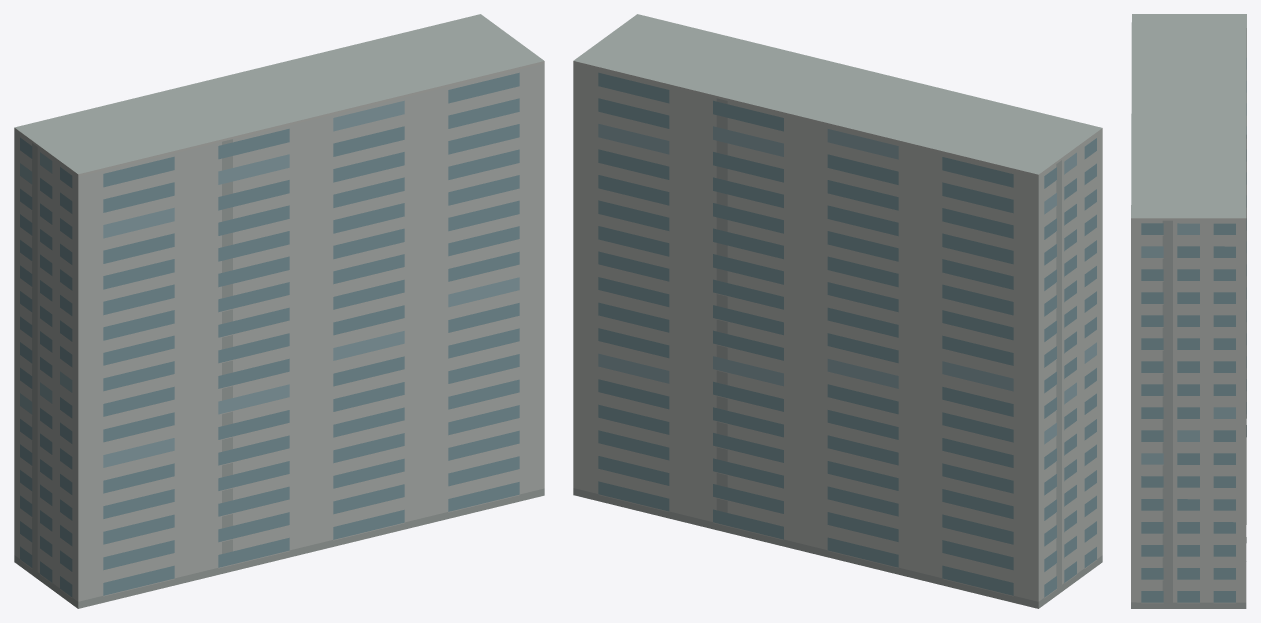
The model's file is residential-cc81bae6-917d-423c-af05-fee2603da18e.glb.
3 renders of one model, left to right at view 1: azimuth 30°, elevation 25°; view 2: azimuth 150°, elevation 25°; view 3: azimuth 270°, elevation 25°, orthographic. The views are drawn at different scales.
Parts seen in each view (by area): view 1: residential-cc81bae6-917d-423c-af05-fee2603da18e.tmp; view 2: residential-cc81bae6-917d-423c-af05-fee2603da18e.tmp; view 3: residential-cc81bae6-917d-423c-af05-fee2603da18e.tmp.
Boxes of the visible parts, left/top/right/bottom form: residential-cc81bae6-917d-423c-af05-fee2603da18e.tmp: left=14, top=14, right=544, bottom=608; residential-cc81bae6-917d-423c-af05-fee2603da18e.tmp: left=573, top=14, right=1102, bottom=608; residential-cc81bae6-917d-423c-af05-fee2603da18e.tmp: left=1131, top=14, right=1246, bottom=608.
Bounding box in the file's own units: 50.54 × 45 × 12.11.
